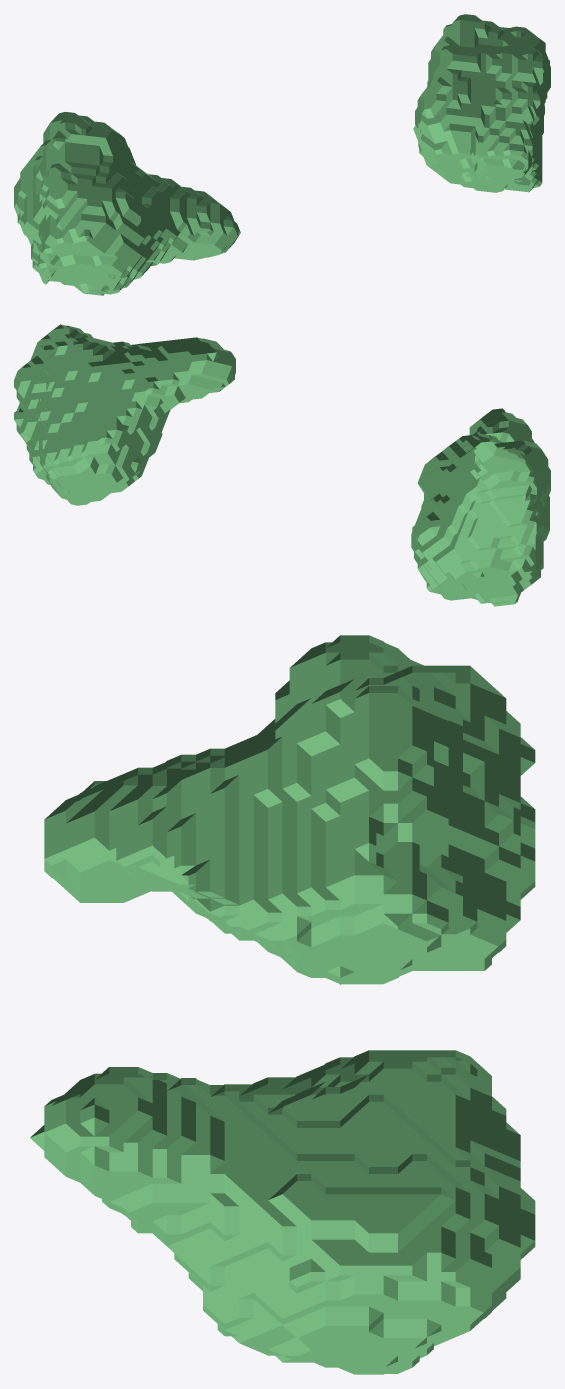
File: region_0054_ENd__entopeduncular_nucleus__dorsal_part_.glb
3 renders of one model, top to bottom at view 1: azimuth 30°, elevation 25°; view 2: azimuth 150°, elevation 25°; view 3: azimuth 270°, elevation 25°, orthographic. The views are drawn at different scales.
Visible parts, largest first — view 1: world; view 2: world; view 3: world.
Boxes of the visible parts, bbox=[...] form: world: bbox=[14, 14, 550, 295]; world: bbox=[14, 324, 550, 606]; world: bbox=[30, 635, 535, 1374].
Bounding box in the file's own units: 0.672 × 0.184 × 0.28.
